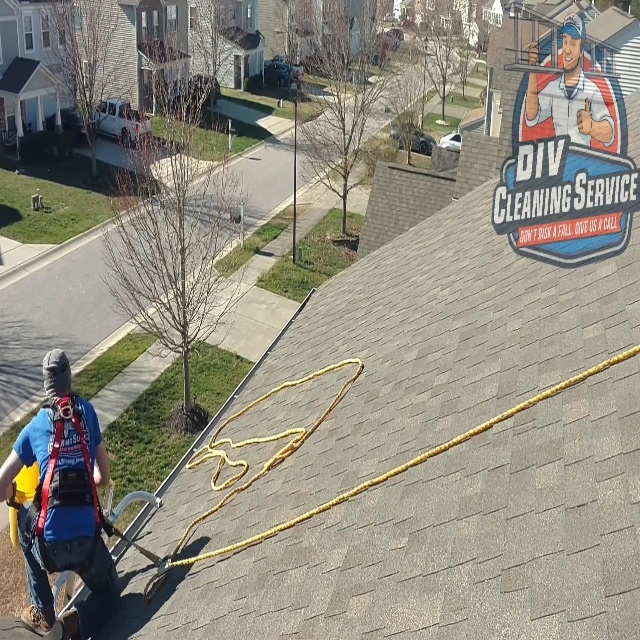Arnes_seguridad: (28, 395, 104, 576)
